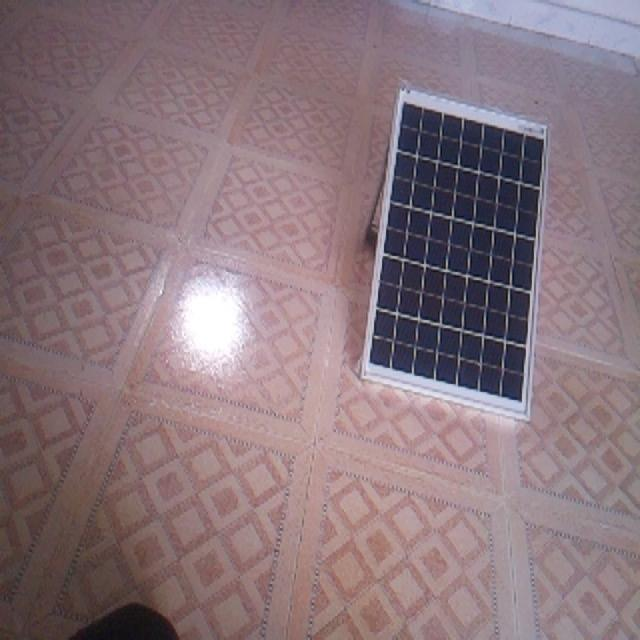Normal Solar Panel: (362, 88, 549, 420)
